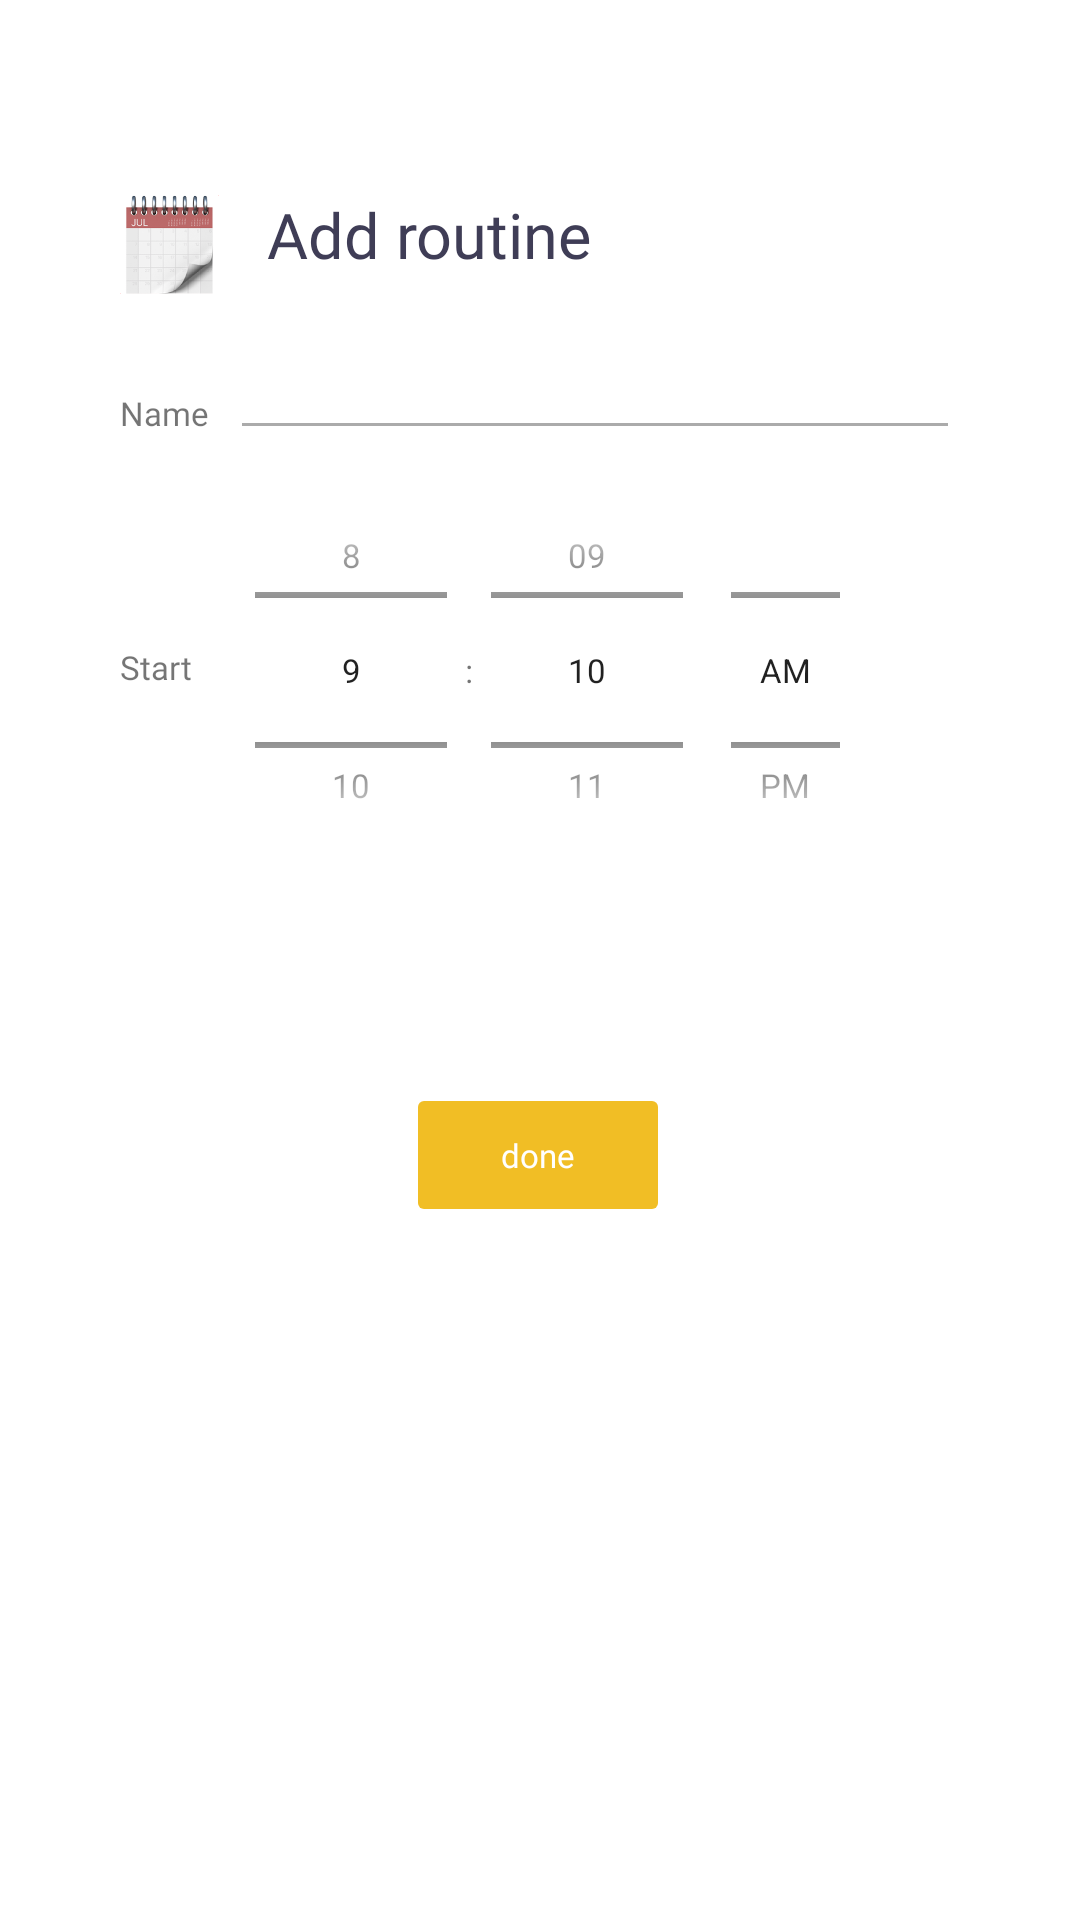

Named icons in this screenshot (1080px×1920px) and their bounding boxes, [x1,y1,x2,y2]:
calendar emoji: [120,195,219,294]
